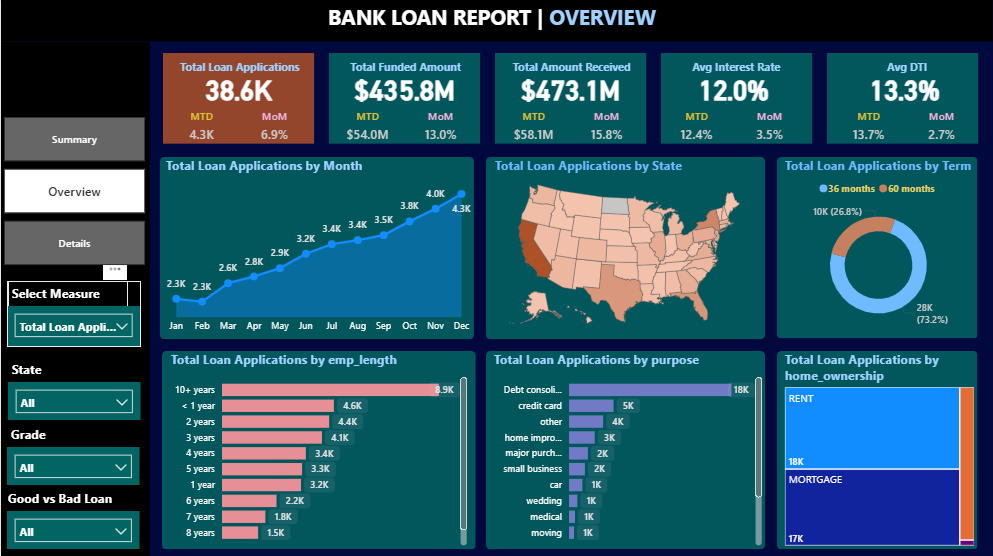

The page's visual inventory and layout, read from the dashboard file:
{"tool":"powerbi","page":{"name":"Overview","canvas":[1280,720],"ordinal":1},"visuals":[{"type":"shape","box":[0,0,1279.5,54.9],"z":0},{"type":"shape","box":[204.9,203.9,405,235],"z":1000},{"type":"shape","box":[0,54.9,192,665.1],"z":2000},{"type":"textbox","box":[416.4,0,448.2,54.9],"z":3000},{"type":"shape","box":[208.6,69.4,195.2,117.1],"z":3000,"group":"g1"},{"type":"shape","box":[637.4,69.4,195.2,117.1],"z":3000,"group":"g3"},{"type":"shape","box":[851.8,69.4,195.2,117.1],"z":3000,"group":"g4"},{"type":"shape","box":[1066.1,69.4,195.2,117.1],"z":3000,"group":"g5"},{"type":"shape","box":[423,69.8,195.2,117.1],"z":3000,"group":"g2"},{"type":"group","id":"g1","title":"Group 1","box":[208.6,69.4,195.2,124.3],"z":4000},{"type":"card","fields":{"Values":["Bank_Loan_Data.Total Loan Applications"]},"box":[221.6,78.1,169.2,73.7],"z":4000,"group":"g1"},{"type":"card","fields":{"Values":["Bank_Loan_Data.Total Amount Received"]},"box":[650.4,78.1,169.2,73.7],"z":4000,"group":"g3"},{"type":"card","fields":{"Values":["Bank_Loan_Data.Avg Interest Rate"]},"box":[860.5,78.1,169.2,73.7],"z":4000,"group":"g4"},{"type":"card","fields":{"Values":["Bank_Loan_Data.Avg DTI"]},"box":[1082,78.1,169.2,73.7],"z":4000,"group":"g5"},{"type":"card","fields":{"Values":["Bank_Loan_Data.Total Funded Amount"]},"box":[436,78.5,169.2,73.7],"z":4000,"group":"g2"},{"type":"group","id":"g2","title":"Group 1","box":[423,69.8,195.2,124.3],"z":5000},{"type":"textbox","box":[221.6,72.3,172,37.6],"z":5000,"group":"g1"},{"type":"textbox","box":[650.4,72.3,172,37.6],"z":5000,"group":"g3"},{"type":"textbox","box":[860.5,72.3,172,37.6],"z":5000,"group":"g4"},{"type":"textbox","box":[1082,72.3,172,37.6],"z":5000,"group":"g5"},{"type":"textbox","box":[436,72.7,172,37.6],"z":5000,"group":"g2"},{"type":"group","id":"g3","title":"Group 1","box":[637.4,69.4,195.2,124.3],"z":6000},{"type":"card","title":"MTD","fields":{"Values":["Bank_Loan_Data.MTD Loan Applications"]},"box":[214.4,141.7,89.6,52],"z":6000,"group":"g1"},{"type":"card","title":"MTD","fields":{"Values":["Bank_Loan_Data.MTD Amount Received"]},"box":[643.2,141.7,89.6,52],"z":6000,"group":"g3"},{"type":"card","title":"MTD","fields":{"Values":["Bank_Loan_Data.MTD Avg Int Rate"]},"box":[853.2,141.7,89.6,52],"z":6000,"group":"g4"},{"type":"card","title":"MTD","fields":{"Values":["Bank_Loan_Data.MTD Avg DTI"]},"box":[1074.8,141.7,89.6,52],"z":6000,"group":"g5"},{"type":"card","title":"MTD","fields":{"Values":["Bank_Loan_Data.MTD Funded Amount"]},"box":[428.8,142.1,89.6,52],"z":6000,"group":"g2"},{"type":"group","id":"g4","title":"Group 1","box":[851.8,69.4,195.2,124.3],"z":7000},{"type":"card","title":"MoM","fields":{"Values":["Bank_Loan_Data.MoM Loan Applications"]},"box":[308.4,141.7,89.6,52],"z":7000,"group":"g1"},{"type":"card","title":"MoM","fields":{"Values":["Bank_Loan_Data.MoM Total Amount Received"]},"box":[737.2,141.7,89.6,52],"z":7000,"group":"g3"},{"type":"card","title":"MoM","fields":{"Values":["Bank_Loan_Data.MoM Avg Int Rate"]},"box":[947.2,141.7,89.6,52],"z":7000,"group":"g4"},{"type":"card","title":"MoM","fields":{"Values":["Bank_Loan_Data.MoM Avg DTI"]},"box":[1168.8,141.7,89.6,52],"z":7000,"group":"g5"},{"type":"card","title":"MoM","fields":{"Values":["Bank_Loan_Data.MoM Total Funded Amount"]},"box":[522.8,142.1,89.6,52],"z":7000,"group":"g2"},{"type":"group","id":"g5","title":"Group 1","box":[1066.1,69.4,195.2,124.3],"z":8000},{"type":"textbox","box":[9.4,363.3,154.7,39],"z":9000,"group":"g9"},{"type":"group","id":"g6","title":"Group 3","box":[9.5,462.1,170.6,81],"z":9000},{"type":"textbox","box":[9.5,462.1,63.6,39],"z":9000,"group":"g6"},{"type":"textbox","box":[8,546,63.6,39],"z":9000,"group":"g8"},{"type":"textbox","box":[4.3,627.9,164.8,39],"z":9000,"group":"g7"},{"type":"group","id":"g7","title":"Group 3","box":[4.3,627.9,174.3,80.8],"z":10000},{"type":"group","id":"g8","title":"Group 4","box":[8,546,170.6,81],"z":11000},{"type":"areaChart","fields":{"Y":["Bank_Loan_Data.Total Loan Applications"],"Category":["Date Table.Month"]},"box":[208.2,203.9,404.8,235.7],"z":12000},{"type":"group","id":"g9","title":"Group 2","box":[8,363.3,172,85.3],"z":13000},{"type":"shape","box":[626,203.9,360,235],"z":14000},{"type":"slicer","fields":{"Values":["Bank_Loan_Data.address_state"]},"box":[9.5,493.9,170.6,49.2],"z":14000,"group":"g6"},{"type":"slicer","fields":{"Values":["Bank_Loan_Data.grade"]},"box":[8,577.8,170.6,49.2],"z":14000,"group":"g8"},{"type":"slicer","fields":{"Values":["Bank_Loan_Data.Good vs Bad Loan"]},"box":[8,659.5,170.6,49.2],"z":14000,"group":"g7"},{"type":"shape","box":[1001.9,203.9,258.8,234.2],"z":15000},{"type":"slicer","fields":{"Values":["Select Measure.Select Measure"]},"box":[8,395.1,172,53.5],"z":15002,"group":"g9"},{"type":"shapeMap","fields":{"Value":["Bank_Loan_Data.Total Loan Applications"],"Category":["Bank_Loan_Data.address_state"]},"box":[631.8,203.9,344.1,229.9],"z":16000},{"type":"donutChart","fields":{"Y":["Bank_Loan_Data.Total Loan Applications"],"Category":["Bank_Loan_Data.term"]},"box":[1006.3,203.9,251.6,229.9],"z":17000},{"type":"shape","box":[208.2,454,404.8,255.9],"z":18000},{"type":"barChart","fields":{"Y":["Bank_Loan_Data.Total Loan Applications"],"Category":["Bank_Loan_Data.emp_length"]},"box":[214,454,391.8,255.9],"z":19000},{"type":"shape","box":[626,454,360,255.9],"z":20000},{"type":"barChart","fields":{"Y":["Bank_Loan_Data.Total Loan Applications"],"Category":["Bank_Loan_Data.purpose"]},"box":[630.4,454,355.7,255.9],"z":21000},{"type":"shape","box":[1001.9,454,258.8,255.9],"z":22000},{"type":"treemap","fields":{"Values":["Bank_Loan_Data.Total Loan Applications"],"Group":["Bank_Loan_Data.home_ownership"]},"box":[1006.3,454,254.5,255.9],"z":23000},{"type":"pageNavigator","box":[4.3,151.8,182.2,192.3],"z":24000}]}

Visuals, with their boxes in screenshot pixels (x1, y1, x2, y2), scaled from the page's 1280x720 canvas onto the 993x556 screenshot:
shape: region(0, 0, 992, 42)
shape: region(159, 157, 473, 339)
shape: region(0, 42, 149, 555)
textbox: region(323, 0, 671, 42)
shape: region(162, 54, 313, 144)
shape: region(494, 54, 646, 144)
shape: region(661, 54, 812, 144)
shape: region(827, 54, 978, 144)
shape: region(328, 54, 480, 144)
"Group 1" group: region(162, 54, 313, 150)
card - Bank_Loan_Data.Total Loan Applications: region(172, 60, 303, 117)
card - Bank_Loan_Data.Total Amount Received: region(505, 60, 636, 117)
card - Bank_Loan_Data.Avg Interest Rate: region(668, 60, 799, 117)
card - Bank_Loan_Data.Avg DTI: region(839, 60, 971, 117)
card - Bank_Loan_Data.Total Funded Amount: region(338, 61, 470, 118)
"Group 1" group: region(328, 54, 480, 150)
textbox: region(172, 56, 305, 85)
textbox: region(505, 56, 638, 85)
textbox: region(668, 56, 801, 85)
textbox: region(839, 56, 973, 85)
textbox: region(338, 56, 472, 85)
"Group 1" group: region(494, 54, 646, 150)
"MTD" card: region(166, 109, 236, 150)
"MTD" card: region(499, 109, 568, 150)
"MTD" card: region(662, 109, 731, 150)
"MTD" card: region(834, 109, 903, 150)
"MTD" card: region(333, 110, 402, 150)
"Group 1" group: region(661, 54, 812, 150)
"MoM" card: region(239, 109, 309, 150)
"MoM" card: region(572, 109, 641, 150)
"MoM" card: region(735, 109, 804, 150)
"MoM" card: region(907, 109, 976, 150)
"MoM" card: region(406, 110, 475, 150)
"Group 1" group: region(827, 54, 978, 150)
textbox: region(7, 281, 127, 311)
"Group 3" group: region(7, 357, 140, 419)
textbox: region(7, 357, 57, 387)
textbox: region(6, 422, 56, 452)
textbox: region(3, 485, 131, 515)
"Group 3" group: region(3, 485, 139, 547)
"Group 4" group: region(6, 422, 139, 484)
areaChart - Bank_Loan_Data.Total Loan Applications x Date Table.Month: region(162, 157, 476, 339)
"Group 2" group: region(6, 281, 140, 346)
shape: region(486, 157, 765, 339)
slicer - Bank_Loan_Data.address_state: region(7, 381, 140, 419)
slicer - Bank_Loan_Data.grade: region(6, 446, 139, 484)
slicer - Bank_Loan_Data.Good vs Bad Loan: region(6, 509, 139, 547)
shape: region(777, 157, 978, 338)
slicer - Select Measure.Select Measure: region(6, 305, 140, 346)
shapeMap - Bank_Loan_Data.Total Loan Applications x Bank_Loan_Data.address_state: region(490, 157, 757, 335)
donutChart - Bank_Loan_Data.Total Loan Applications x Bank_Loan_Data.term: region(781, 157, 976, 335)
shape: region(162, 351, 476, 548)
barChart - Bank_Loan_Data.Total Loan Applications x Bank_Loan_Data.emp_length: region(166, 351, 470, 548)
shape: region(486, 351, 765, 548)
barChart - Bank_Loan_Data.Total Loan Applications x Bank_Loan_Data.purpose: region(489, 351, 765, 548)
shape: region(777, 351, 978, 548)
treemap - Bank_Loan_Data.Total Loan Applications x Bank_Loan_Data.home_ownership: region(781, 351, 978, 548)
pageNavigator: region(3, 117, 145, 266)
